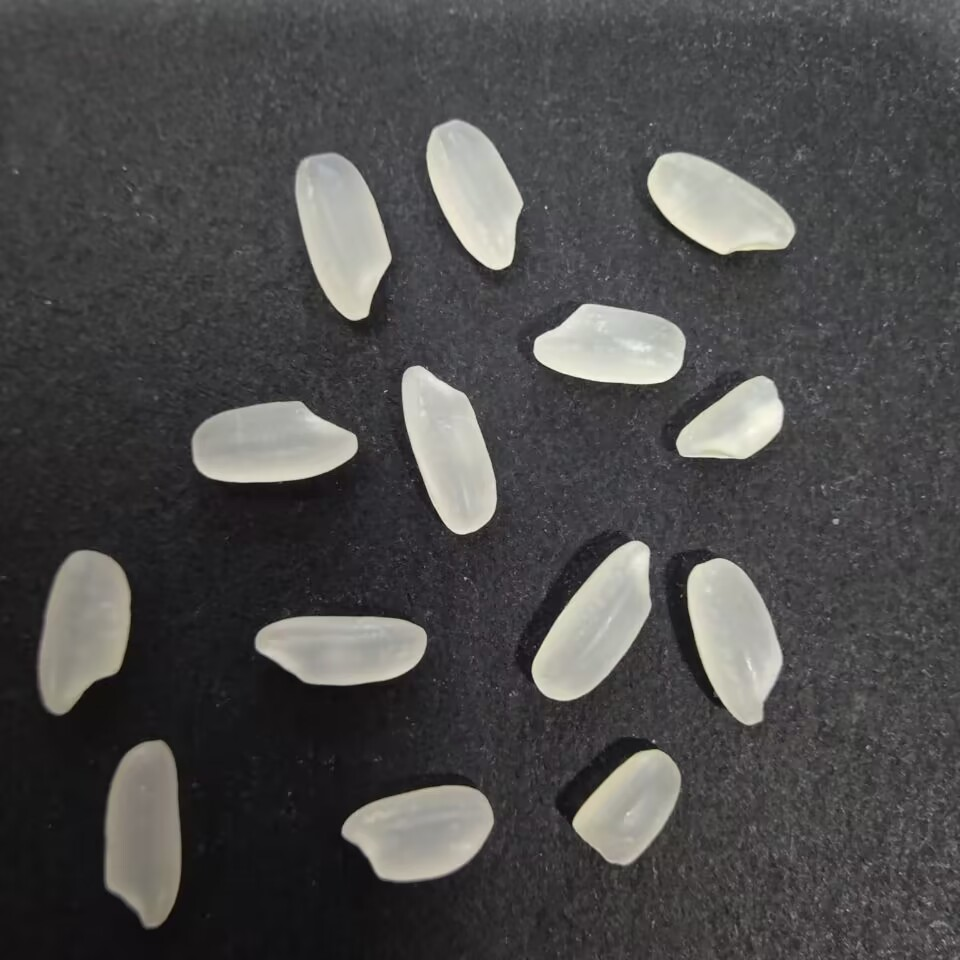broken: (567, 746, 687, 868), (672, 372, 788, 461)
rice: (529, 538, 655, 703), (400, 361, 503, 540), (97, 736, 189, 935), (291, 152, 396, 324), (644, 150, 801, 265), (36, 545, 136, 720), (337, 779, 497, 885), (422, 119, 529, 274), (686, 557, 783, 727), (187, 395, 361, 486), (245, 611, 432, 690), (529, 302, 689, 388)
